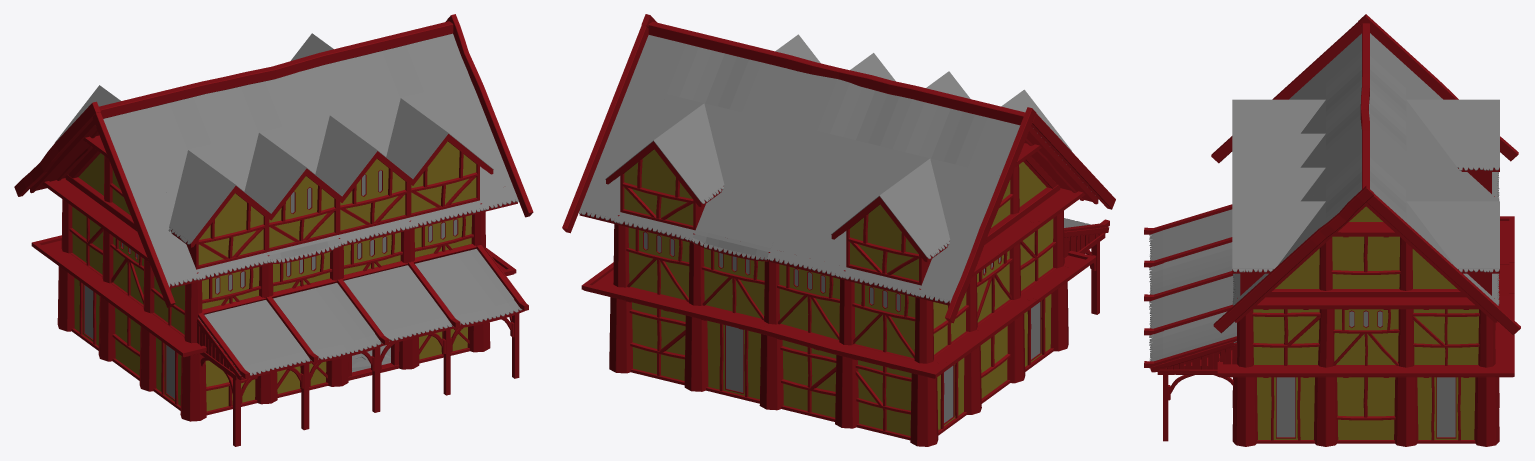
Rendered from SM_MH_01_House_03.fbx.
The picture shows the model from 3 angles, left to right: view 1: azimuth 30°, elevation 25°; view 2: azimuth 150°, elevation 25°; view 3: azimuth 270°, elevation 25°; orthographic projection. The views are drawn at different scales.
Visible parts, largest first — view 1: SM_MH_01_House_03_LOD0, SM_MH_01_House_03_Windows; view 2: SM_MH_01_House_03_LOD0, SM_MH_01_House_03_Windows; view 3: SM_MH_01_House_03_LOD0, SM_MH_01_House_03_Windows.
Part boxes in pixels (bbox=[...]): SM_MH_01_House_03_LOD0: bbox=[14, 14, 533, 446]; SM_MH_01_House_03_Windows: bbox=[84, 170, 457, 398]; SM_MH_01_House_03_LOD0: bbox=[562, 14, 1115, 446]; SM_MH_01_House_03_Windows: bbox=[644, 232, 1040, 422]; SM_MH_01_House_03_LOD0: bbox=[1144, 14, 1520, 446]; SM_MH_01_House_03_Windows: bbox=[1276, 311, 1455, 437].
Size of what is drawn, in the model's own units: 1540 by 1125 by 1409.
